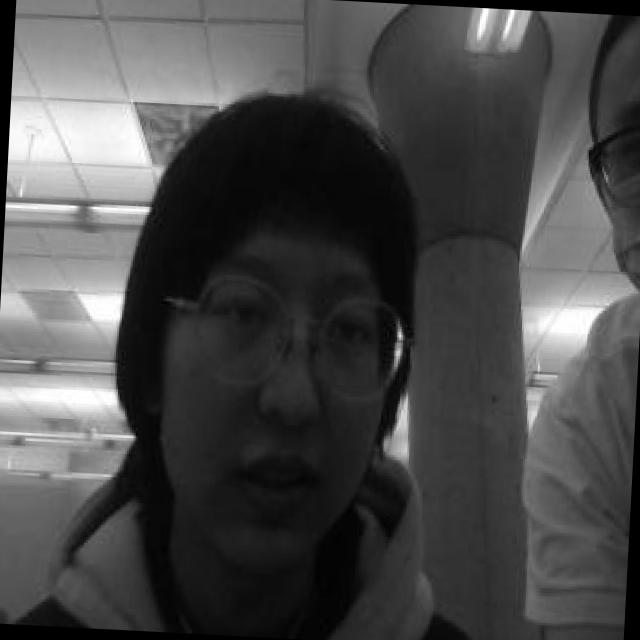Focused: (146, 154, 414, 554)
